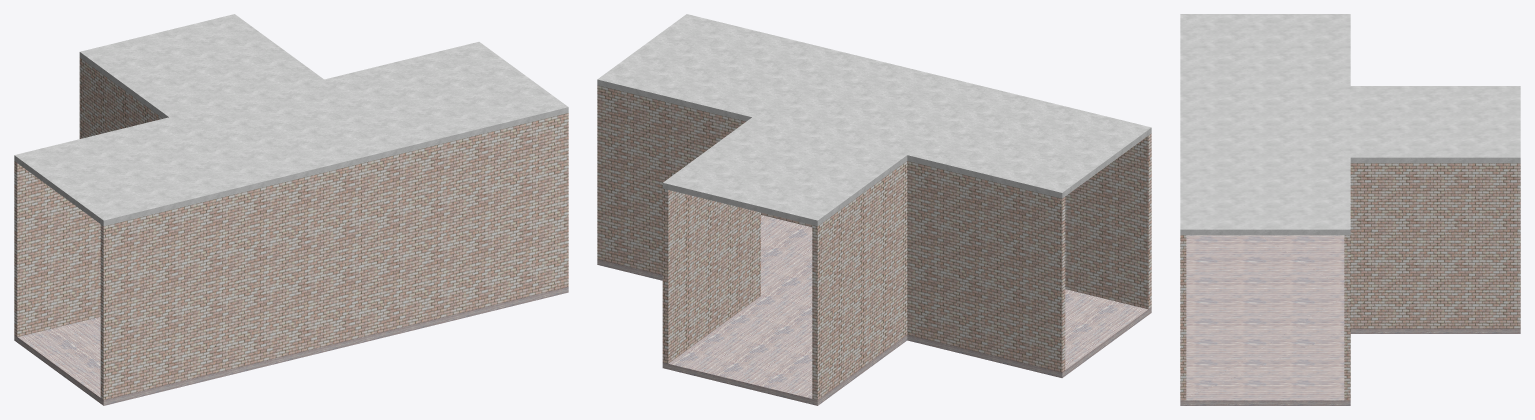
Rendered from OLD_T_Junction.obj.
The picture shows the model from 3 angles, left to right: view 1: azimuth 30°, elevation 25°; view 2: azimuth 150°, elevation 25°; view 3: azimuth 270°, elevation 25°; orthographic projection. The views are drawn at different scales.
Visible parts, largest first — view 1: Walls1, Ceiling1, Floor1; view 2: Walls1, Ceiling1, Floor1; view 3: Ceiling1, Walls1, Floor1.
Boxes of the visible parts, x1=… form: Walls1: x1=14, y1=58, x2=568, y2=399; Ceiling1: x1=14, y1=14, x2=568, y2=226; Floor1: x1=14, y1=287, x2=568, y2=405; Walls1: x1=597, y1=85, x2=1151, y2=399; Ceiling1: x1=597, y1=14, x2=1151, y2=226; Floor1: x1=597, y1=215, x2=1151, y2=405; Ceiling1: x1=1180, y1=14, x2=1520, y2=235; Walls1: x1=1180, y1=163, x2=1520, y2=400; Floor1: x1=1180, y1=235, x2=1520, y2=405.
Bounding box in the file's own units: 84 × 32 × 56.
